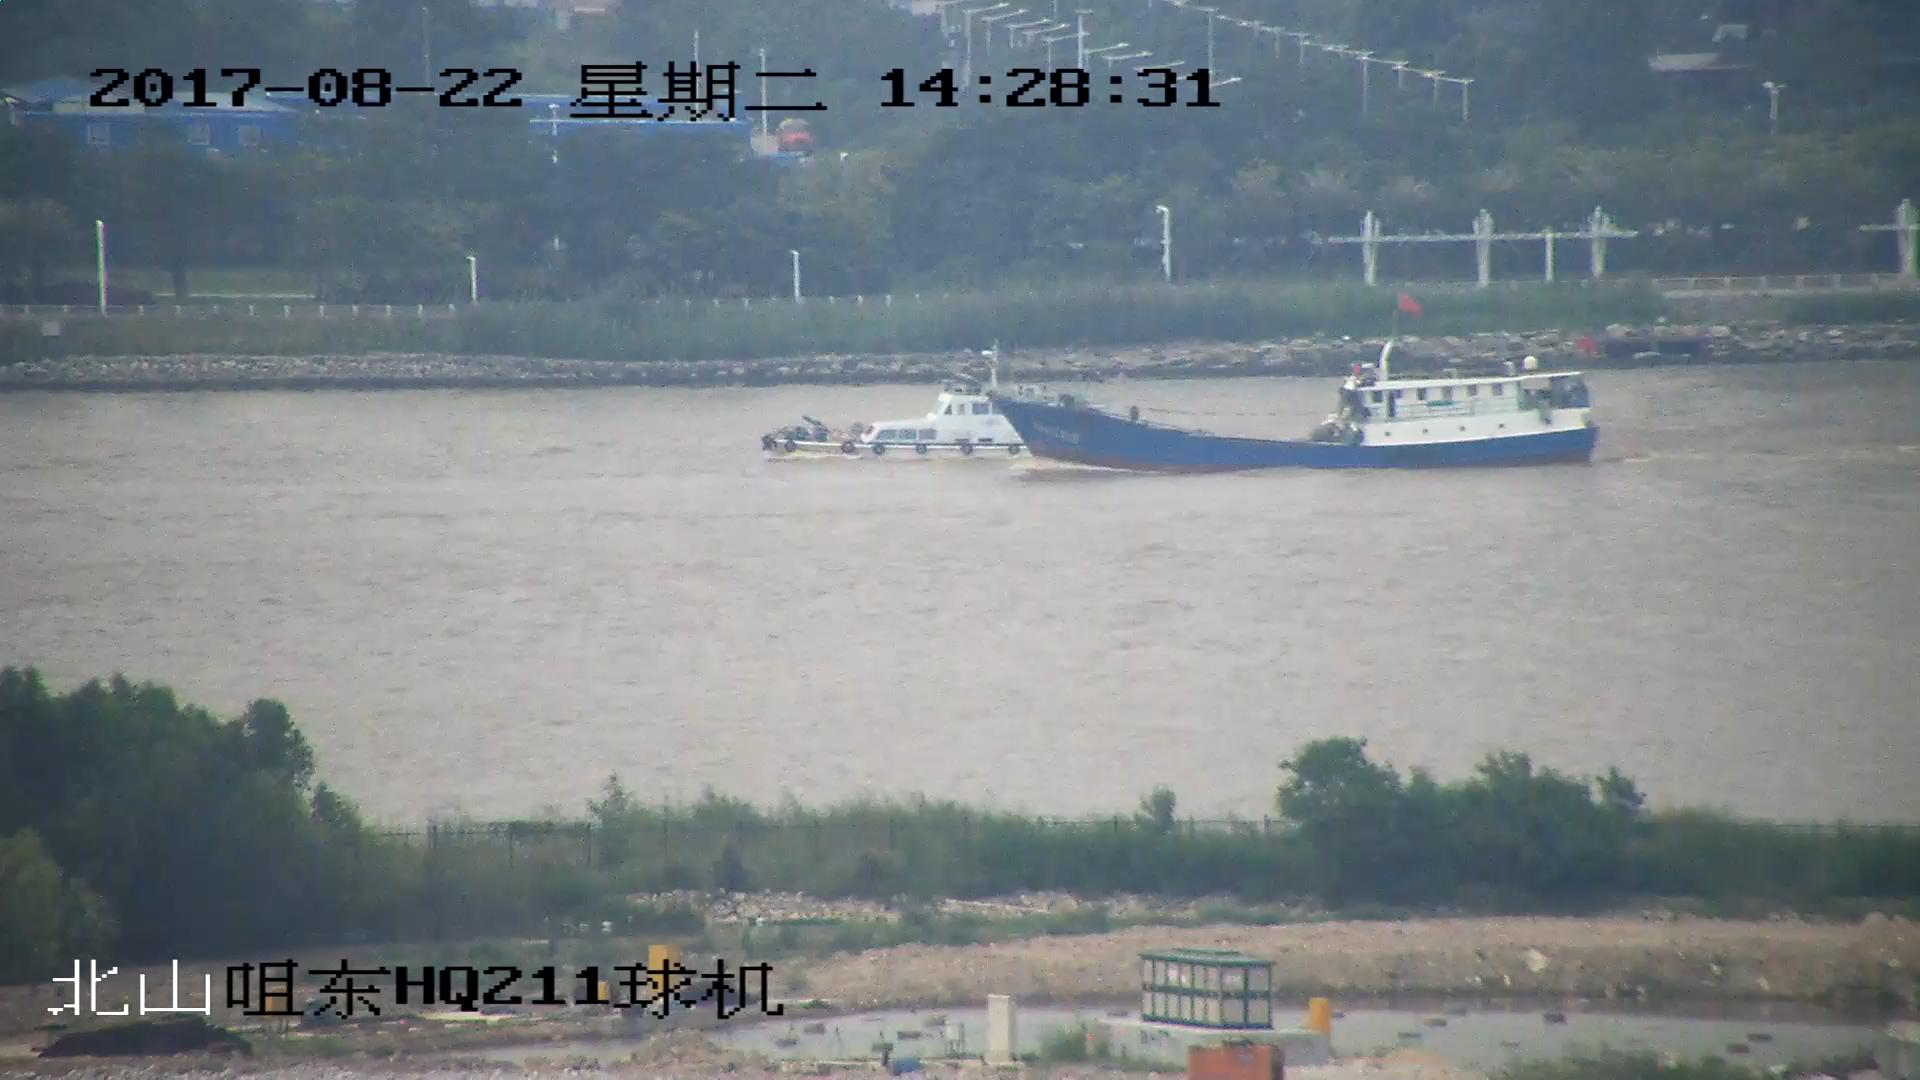fishing boat: (989, 280, 1606, 474)
passenger ship: (761, 361, 1050, 461)
